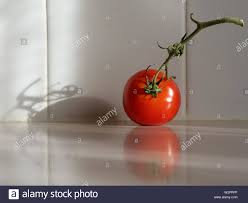tomato: (122, 69, 181, 127)
